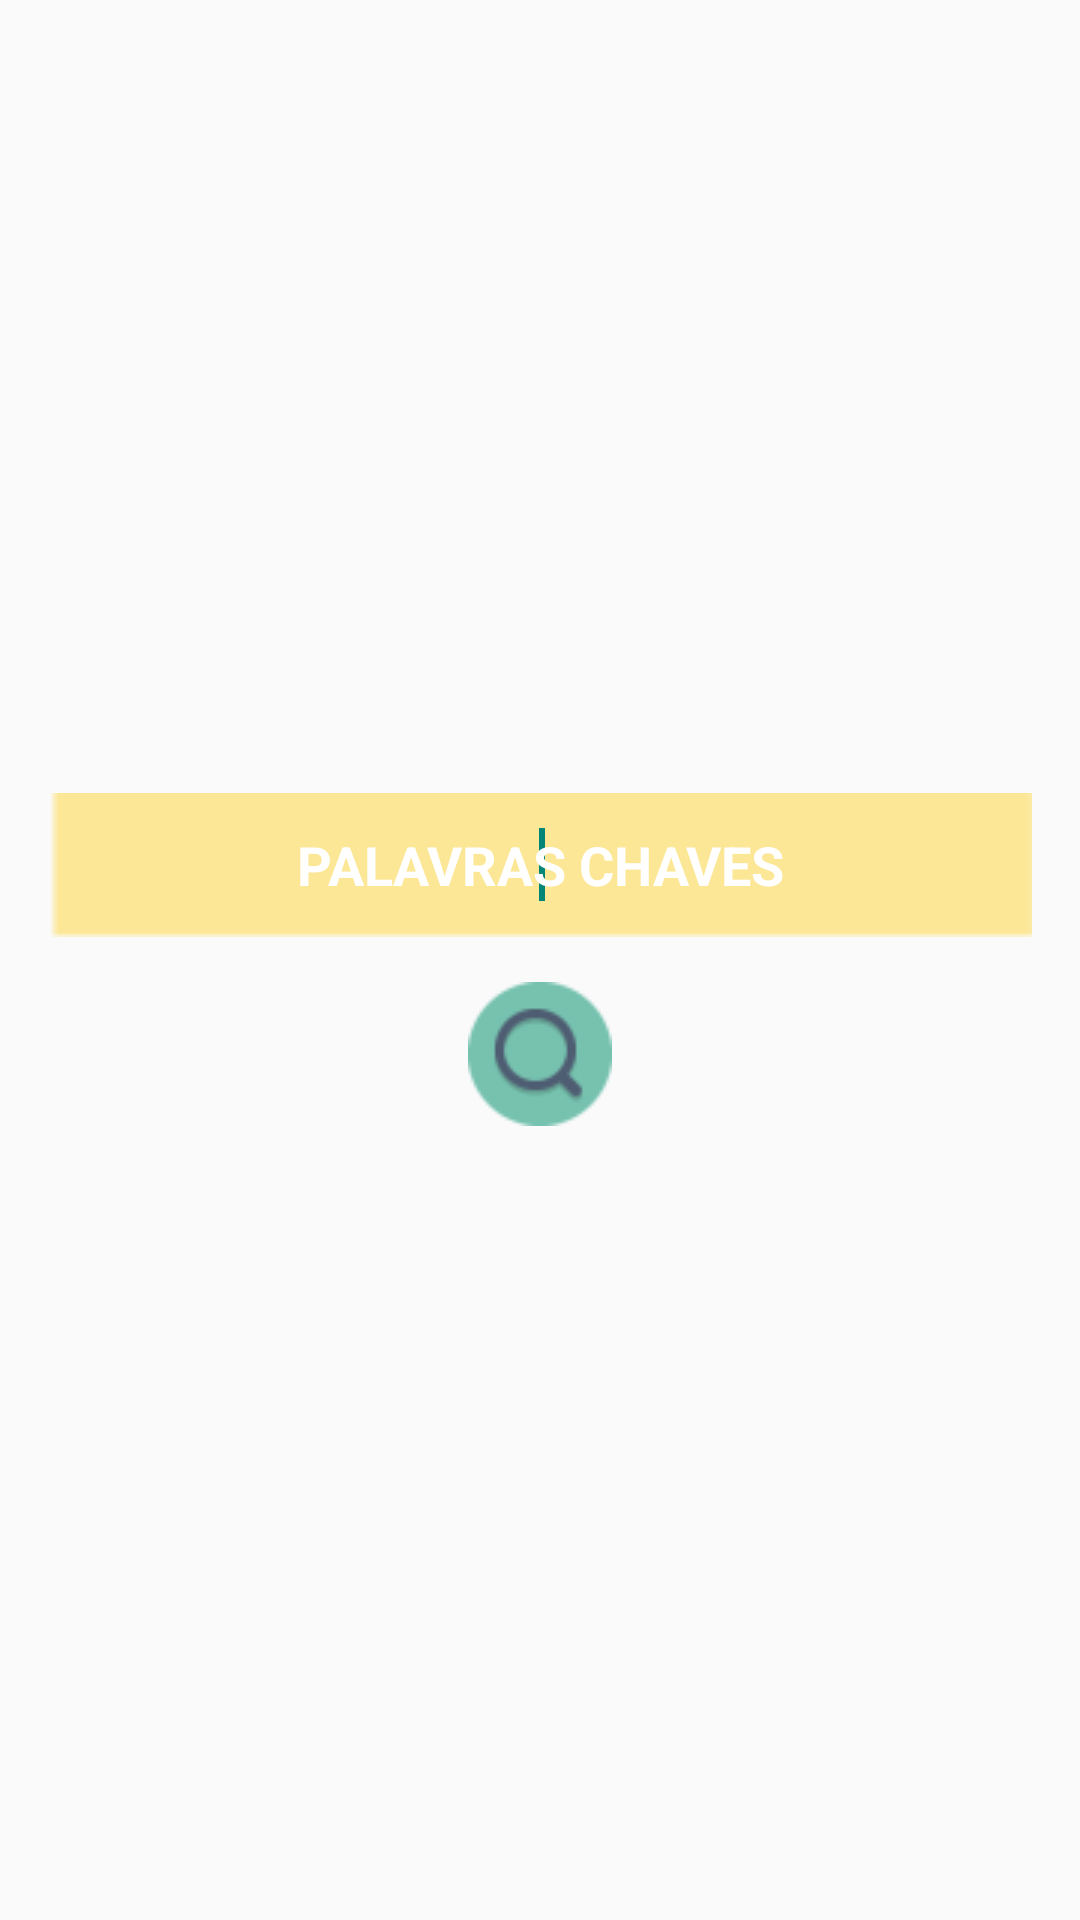

Locate icon controls on the screen. Image size 1080*1920, boxes as (x1, y1, x2, y2).
PESQUISAR: (468, 982, 612, 1126)
